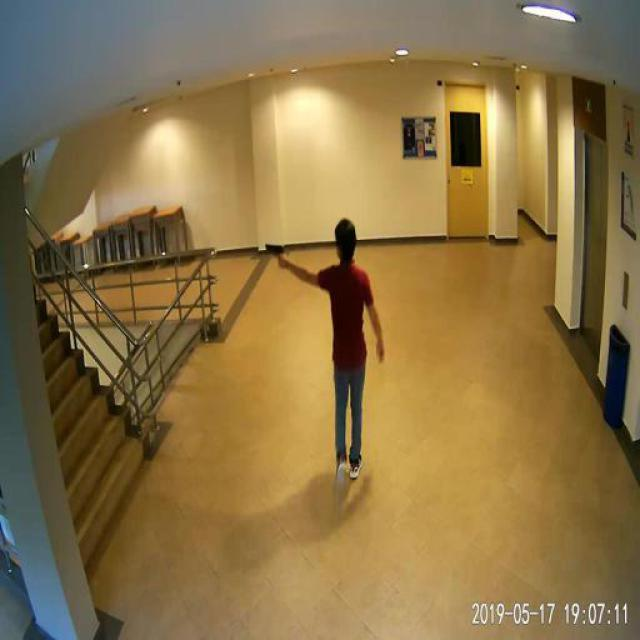weapon: (264, 243, 288, 267)
